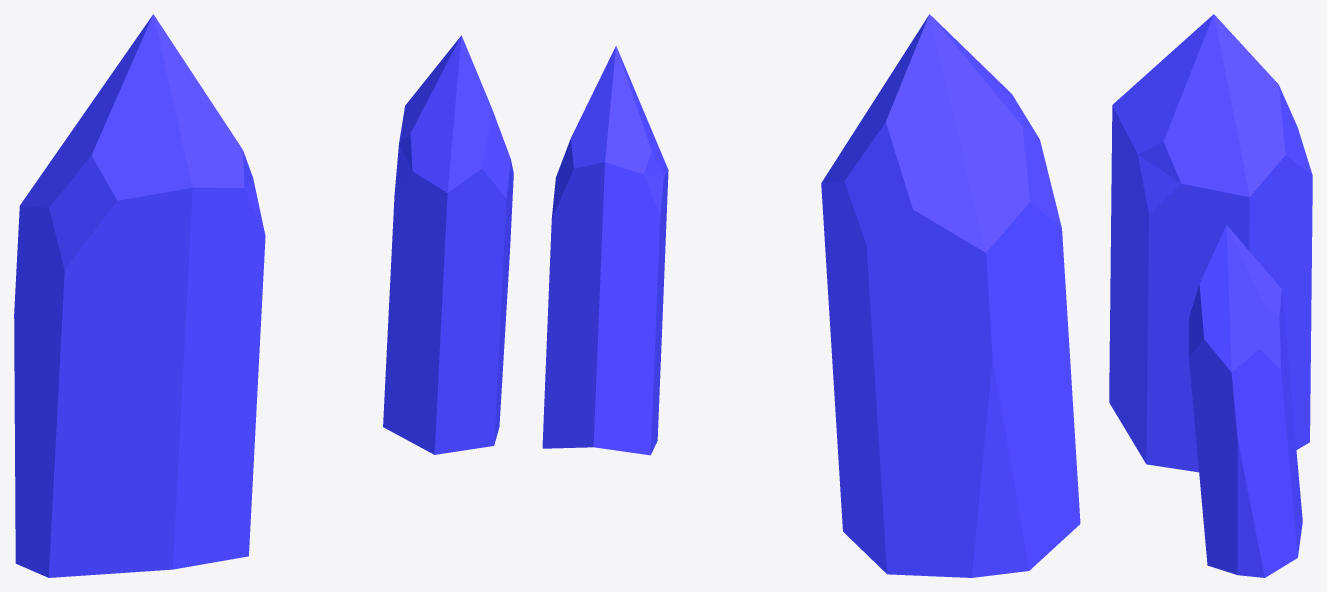
The model's file is Crystar_l.fbx.
3 views of the same model, side by side, from view 1: azimuth 30°, elevation 25°; view 2: azimuth 150°, elevation 25°; view 3: azimuth 270°, elevation 25° (orthographic). The views are drawn at different scales.
Visible parts, largest first — view 1: crystal.001, crystal.004; view 2: crystal.001, crystal.004; view 3: crystal.001, crystal.004.
Part boxes in pixels (x1=…): crystal.001: x1=14, y1=14, x2=265, y2=577; crystal.004: x1=383, y1=35, x2=513, y2=454; crystal.001: x1=821, y1=14, x2=1080, y2=577; crystal.004: x1=542, y1=46, x2=668, y2=455; crystal.001: x1=1109, y1=14, x2=1312, y2=472; crystal.004: x1=1189, y1=225, x2=1302, y2=577.
Size of the model in its own units: 102 by 43.75 by 104.
